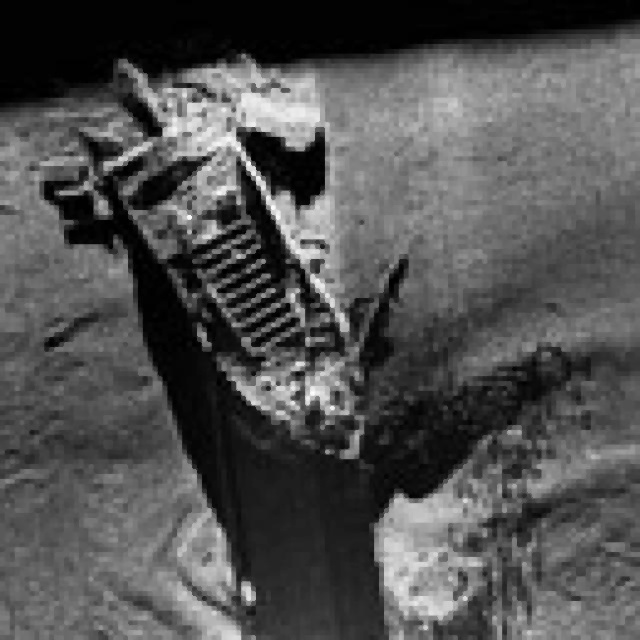Ship: (48, 45, 395, 490)
